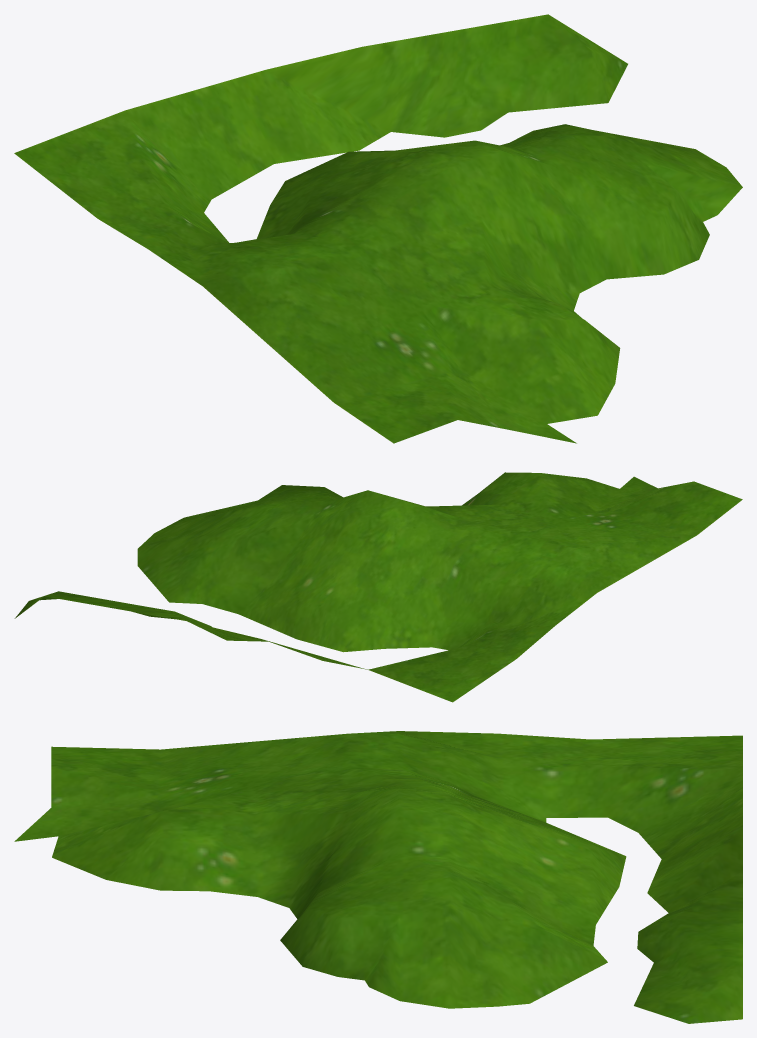
Rendered from Amazon02_Terrain03.FBX.
The picture shows the model from 3 angles, top to bottom: view 1: azimuth 30°, elevation 25°; view 2: azimuth 150°, elevation 25°; view 3: azimuth 270°, elevation 25°; orthographic projection. The views are drawn at different scales.
Visible parts, largest first — view 1: Amazon02_Terrain03; view 2: Amazon02_Terrain03; view 3: Amazon02_Terrain03.
Part boxes in pixels (x1=…): Amazon02_Terrain03: x1=14, y1=14, x2=742, y2=443; Amazon02_Terrain03: x1=14, y1=472, x2=742, y2=702; Amazon02_Terrain03: x1=14, y1=731, x2=742, y2=1023.
Size of the model in its own units: 7203 by 1251 by 8544.
